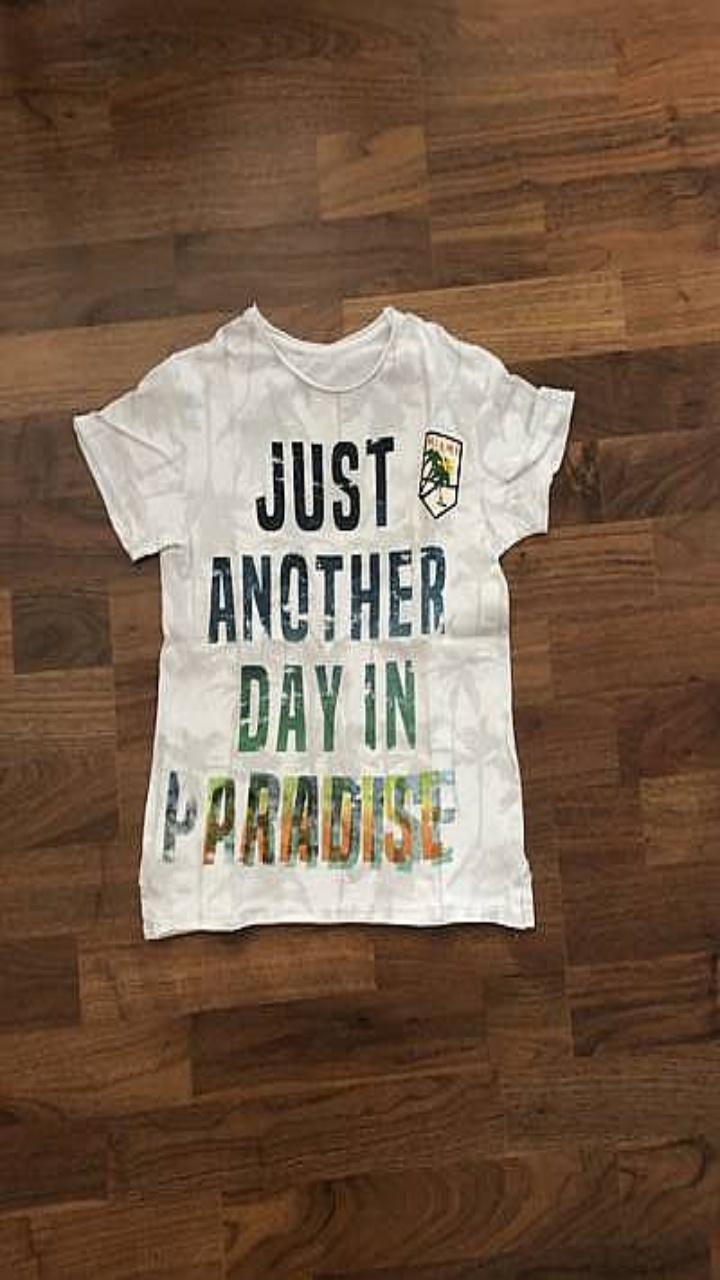T-Shirt: (73, 303, 574, 938)
